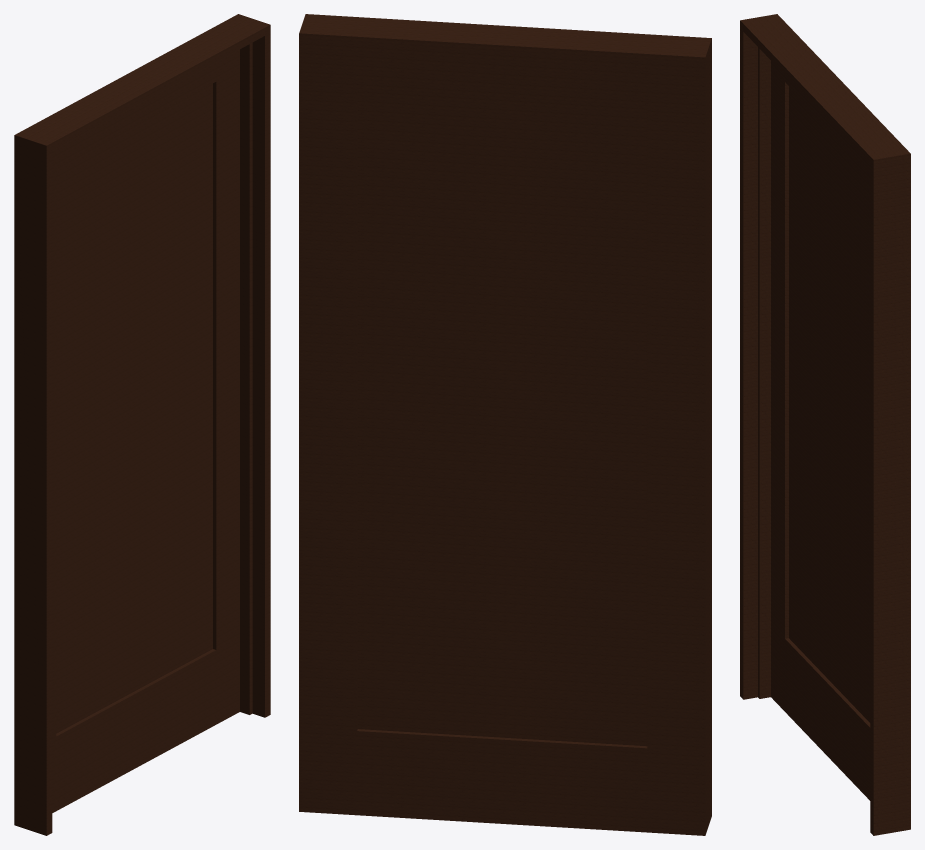
The model's file is Flush_01.fbx.
3 renders of one model, left to right at view 1: azimuth 30°, elevation 25°; view 2: azimuth 150°, elevation 25°; view 3: azimuth 270°, elevation 25°, orthographic. The views are drawn at different scales.
Parts seen in each view (by area): view 1: M_Door-Interior-Single-1_Panel-Wood_965_x_2100mm_2__2075206_; view 2: M_Door-Interior-Single-1_Panel-Wood_965_x_2100mm_2__2075206_; view 3: M_Door-Interior-Single-1_Panel-Wood_965_x_2100mm_2__2075206_.
Boxes of the visible parts, left/top/right/bottom form: M_Door-Interior-Single-1_Panel-Wood_965_x_2100mm_2__2075206_: left=14, top=14, right=270, bottom=835; M_Door-Interior-Single-1_Panel-Wood_965_x_2100mm_2__2075206_: left=299, top=14, right=711, bottom=835; M_Door-Interior-Single-1_Panel-Wood_965_x_2100mm_2__2075206_: left=740, top=14, right=910, bottom=835.
Bounding box in the file's own units: 98.39 × 48.62 × 212.
Materials: 1 (1 with a texture image).
